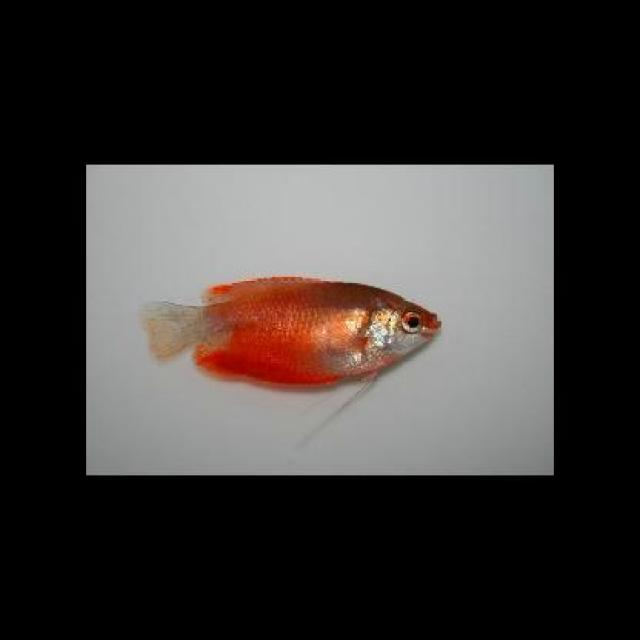Gourami: (143, 272, 442, 383)
